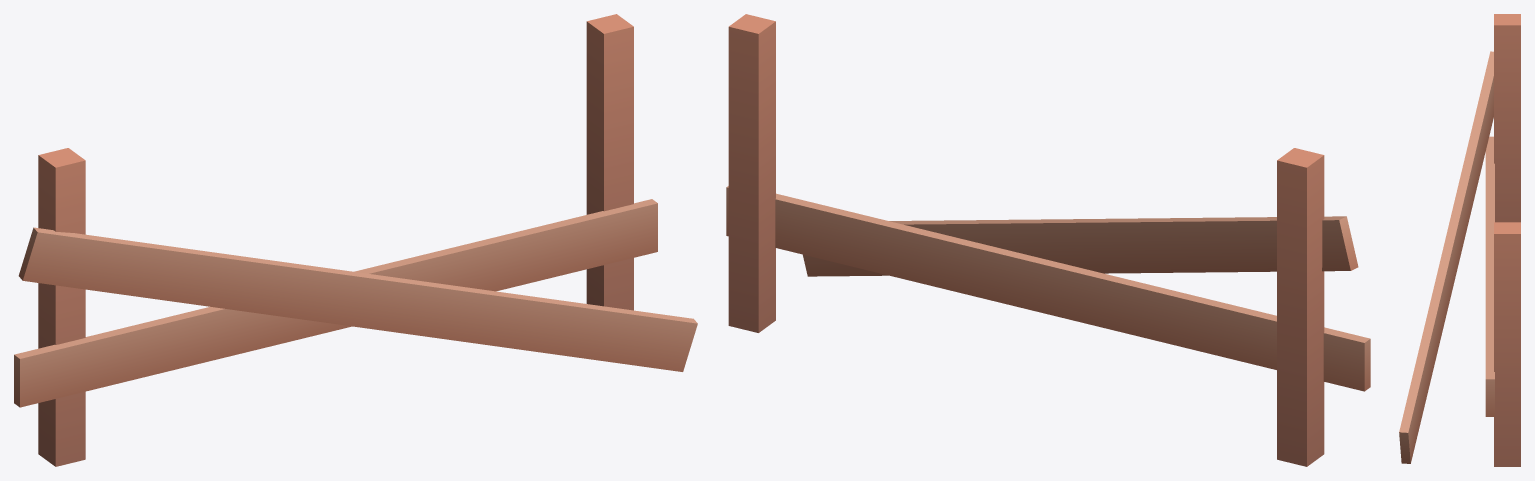
The model's file is [OBJ]Cerca_Ruina2.fbx.
The picture shows the model from 3 angles, left to right: view 1: azimuth 30°, elevation 25°; view 2: azimuth 150°, elevation 25°; view 3: azimuth 270°, elevation 25°; orthographic projection. The views are drawn at different scales.
Visible parts, largest first — view 1: [OBJ]Cerca_Ruina2; view 2: [OBJ]Cerca_Ruina2; view 3: [OBJ]Cerca_Ruina2.
Boxes of the visible parts, x1,y1,x2,y2 form: [OBJ]Cerca_Ruina2: [14, 14, 697, 466]; [OBJ]Cerca_Ruina2: [726, 14, 1370, 466]; [OBJ]Cerca_Ruina2: [1399, 14, 1520, 466].
Bounding box in the file's own units: 162 × 72.71 × 34.37.
